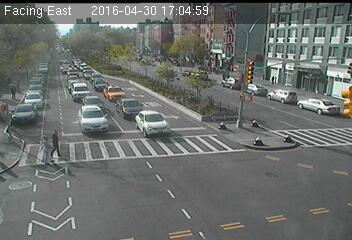neg: (275, 52, 295, 78), (207, 115, 222, 134), (182, 80, 196, 100), (79, 74, 93, 93), (236, 93, 250, 111), (143, 63, 157, 80), (58, 81, 71, 99), (167, 56, 179, 72), (127, 54, 138, 68), (106, 58, 113, 69)
pos: (48, 128, 68, 155), (33, 134, 52, 160), (4, 82, 19, 101), (213, 63, 222, 76)
